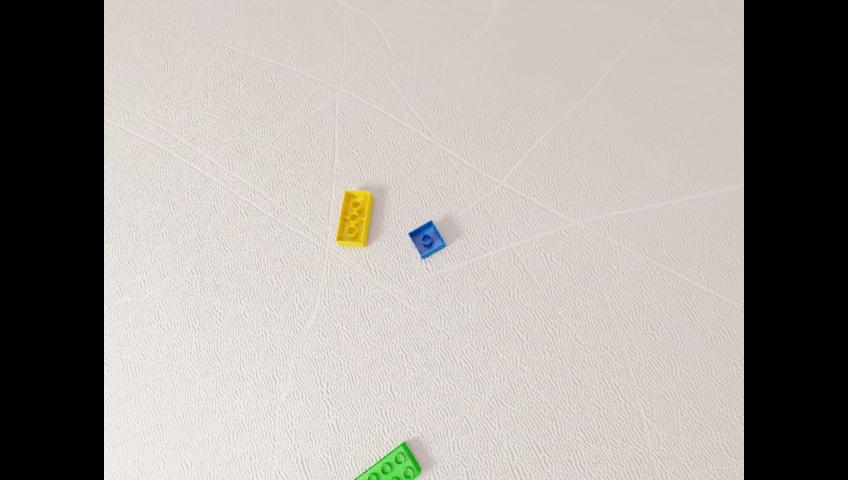2x2_blue: (407, 219, 445, 259)
4x2_green: (353, 441, 420, 480)
4x2_yellow: (335, 189, 372, 247)
